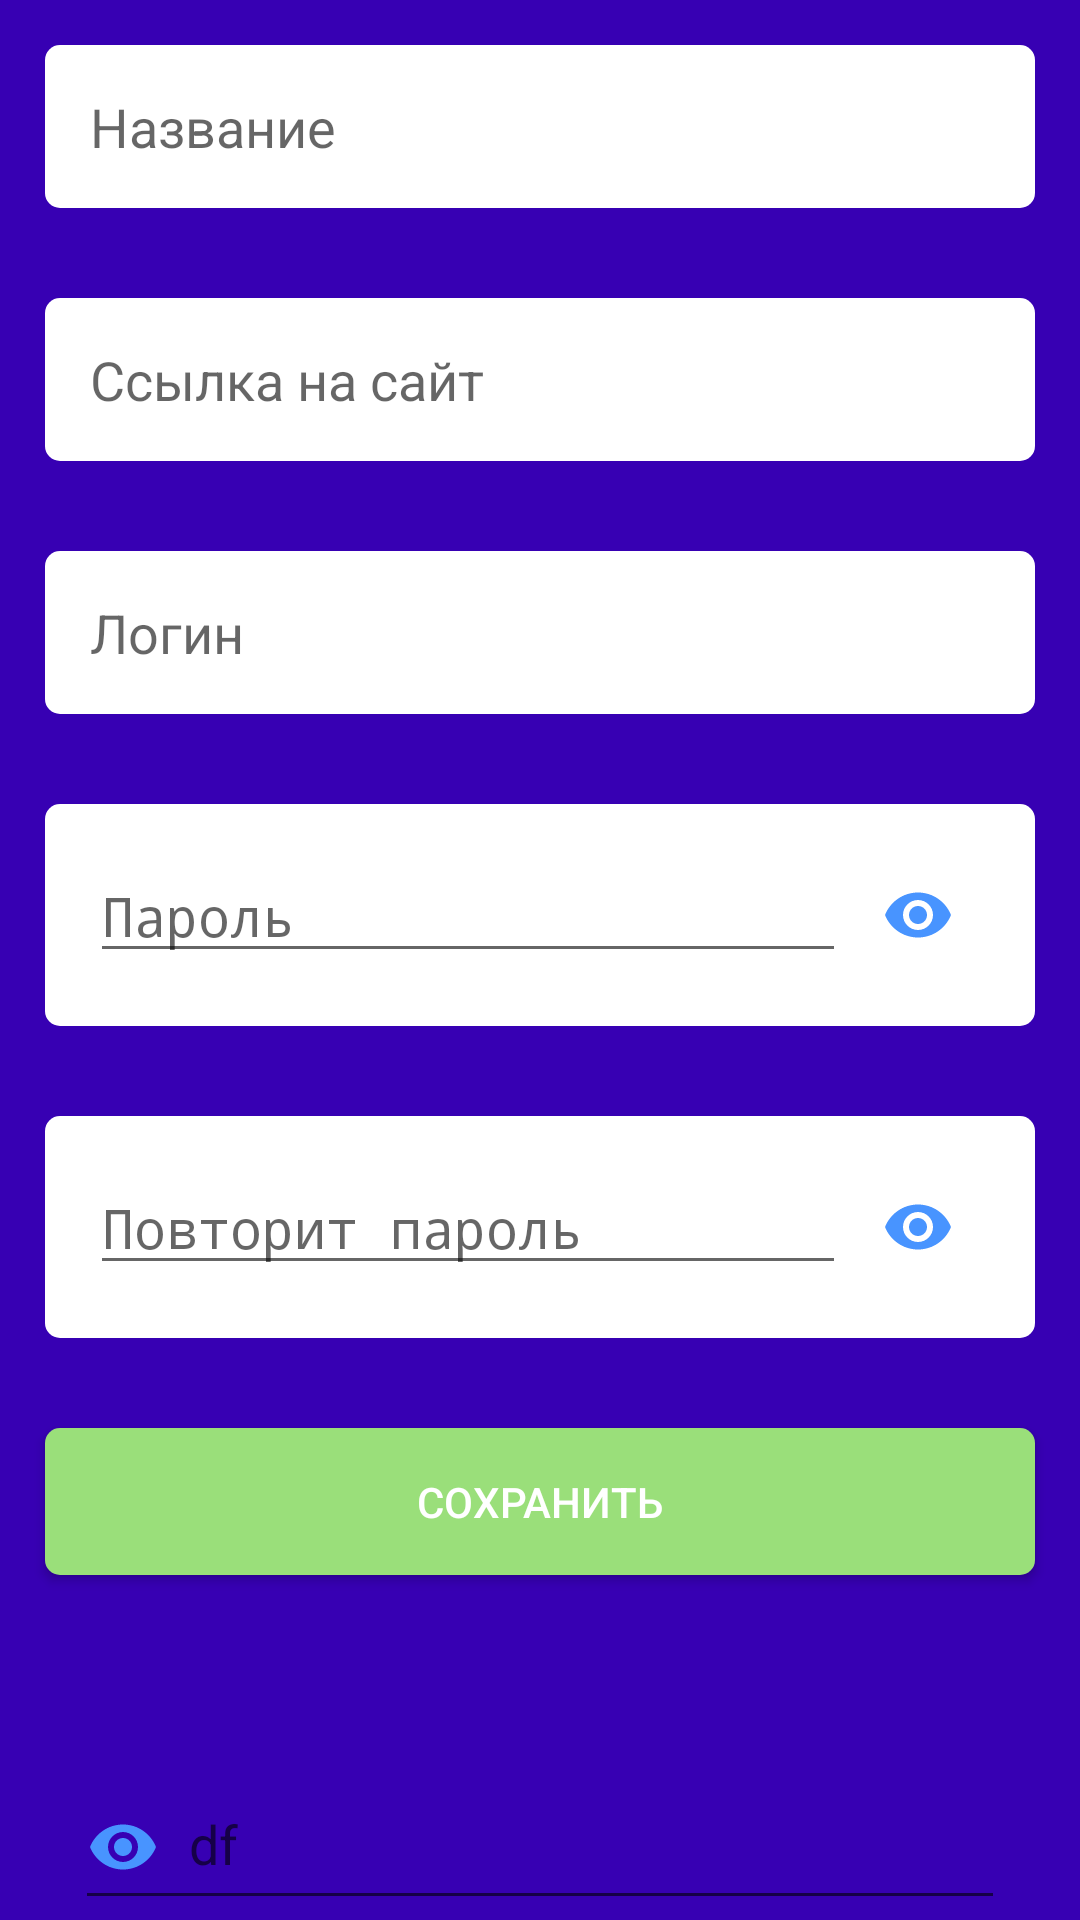

Icons on this 1080w x 1920h Android screen, each with the point to tap as (x,y):
show pass: (918,915), (918,1227)
